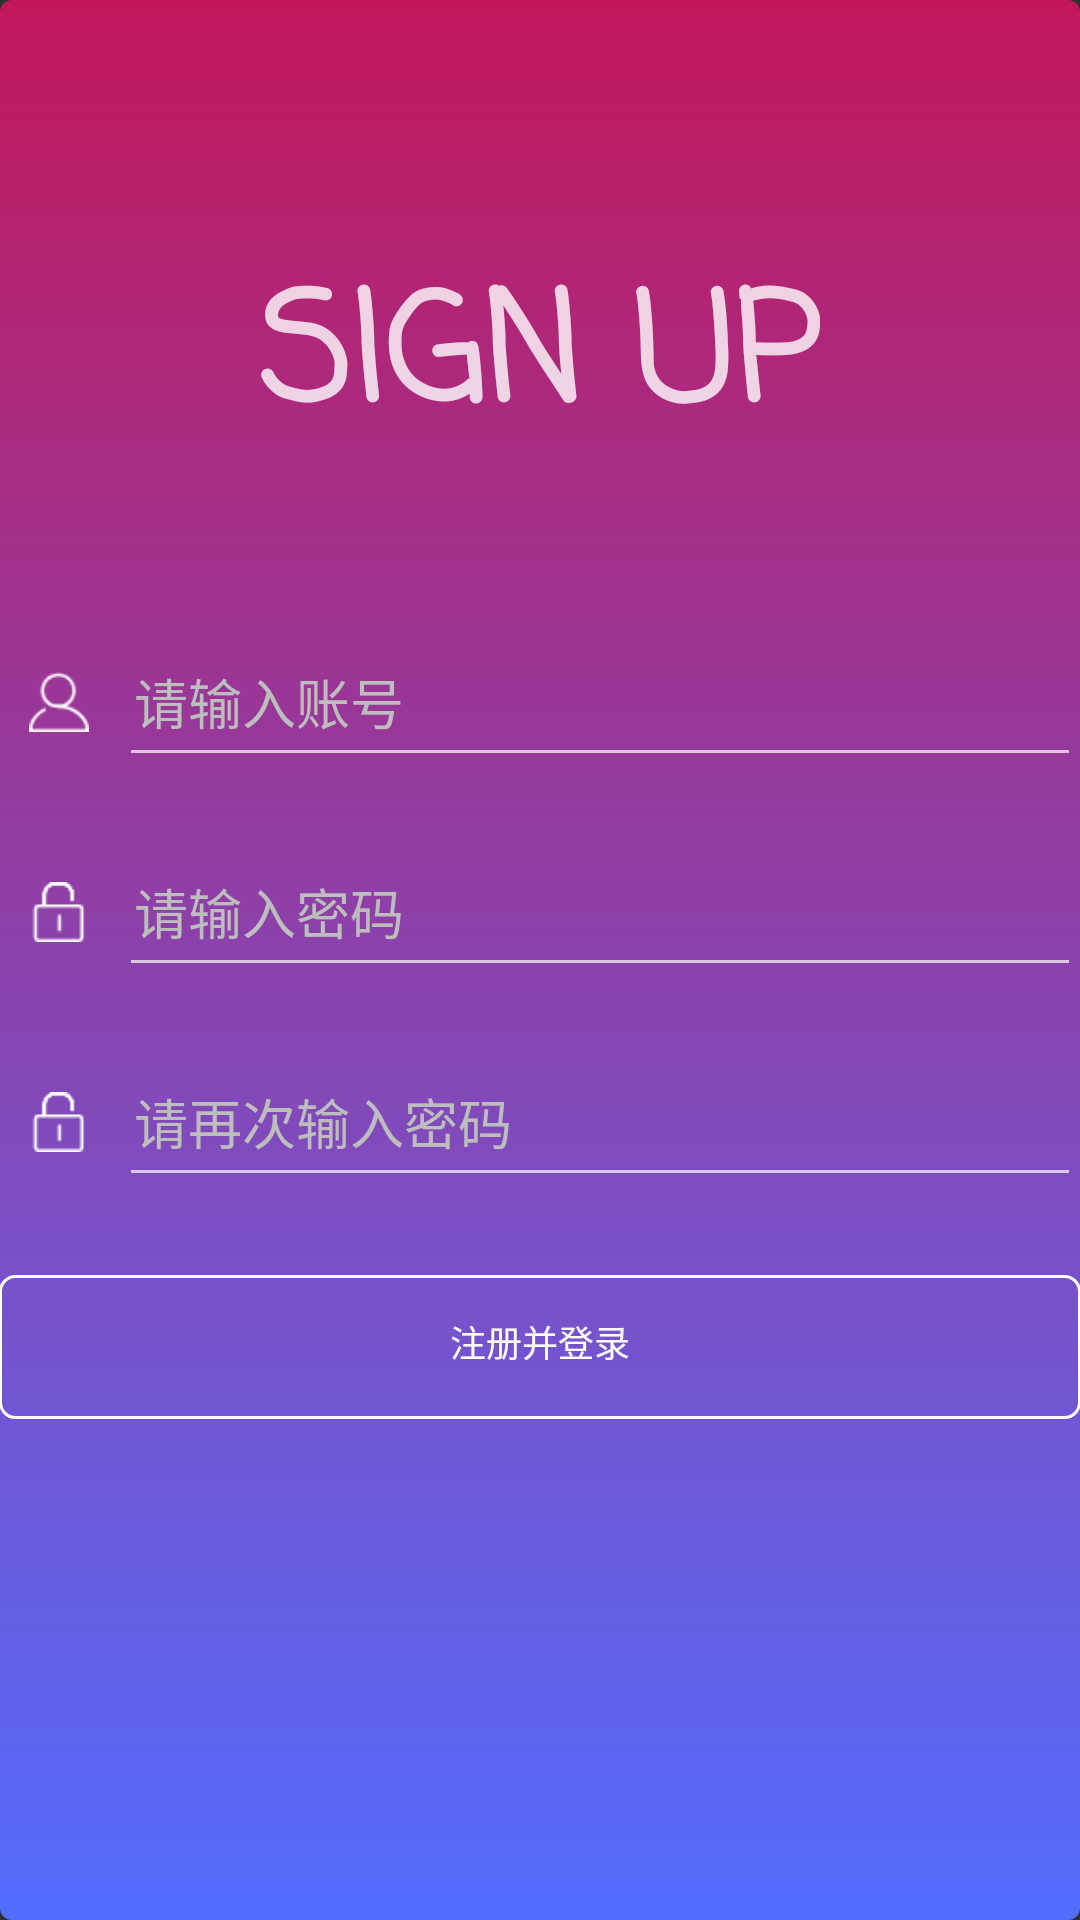

Named icons in this screenshot (1080px×1920px) and their bounding boxes, (x1,y1,x2,y2):
account: (29,672,89,732)
password: (33,882,84,942), (32,1092,84,1152)
